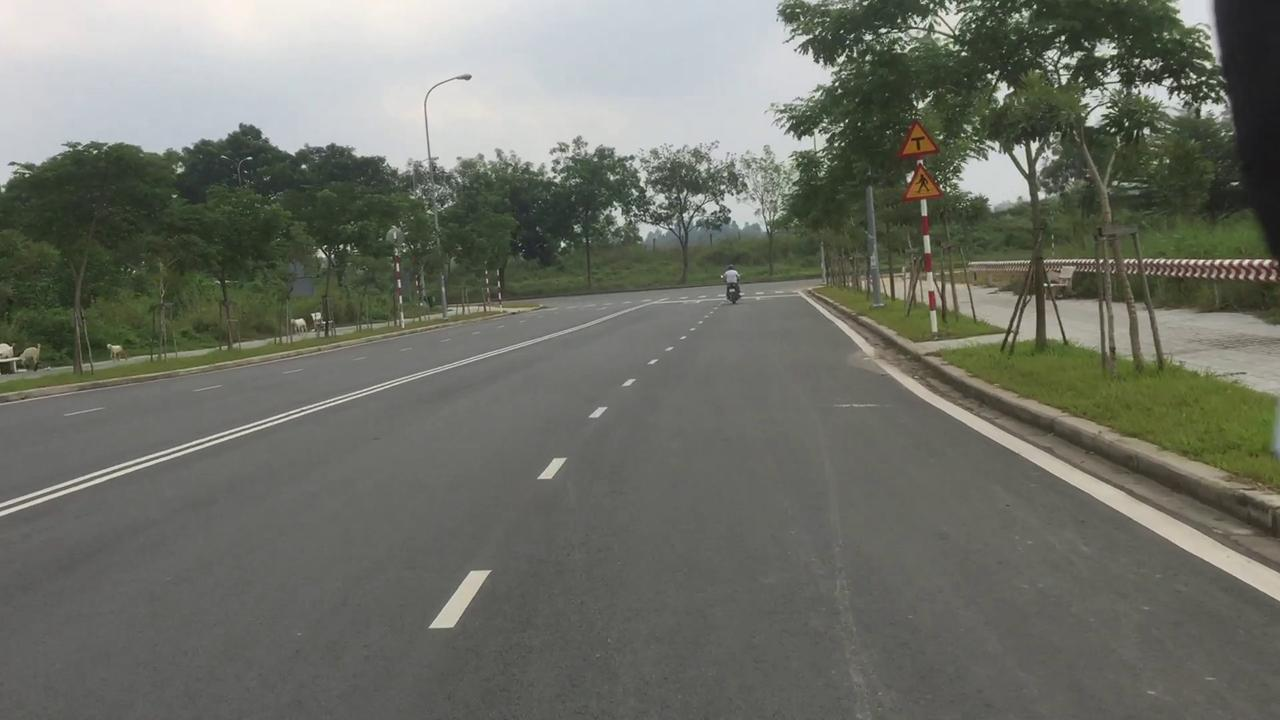P.124b: (896, 168, 948, 200)
P.125: (892, 117, 944, 160)
